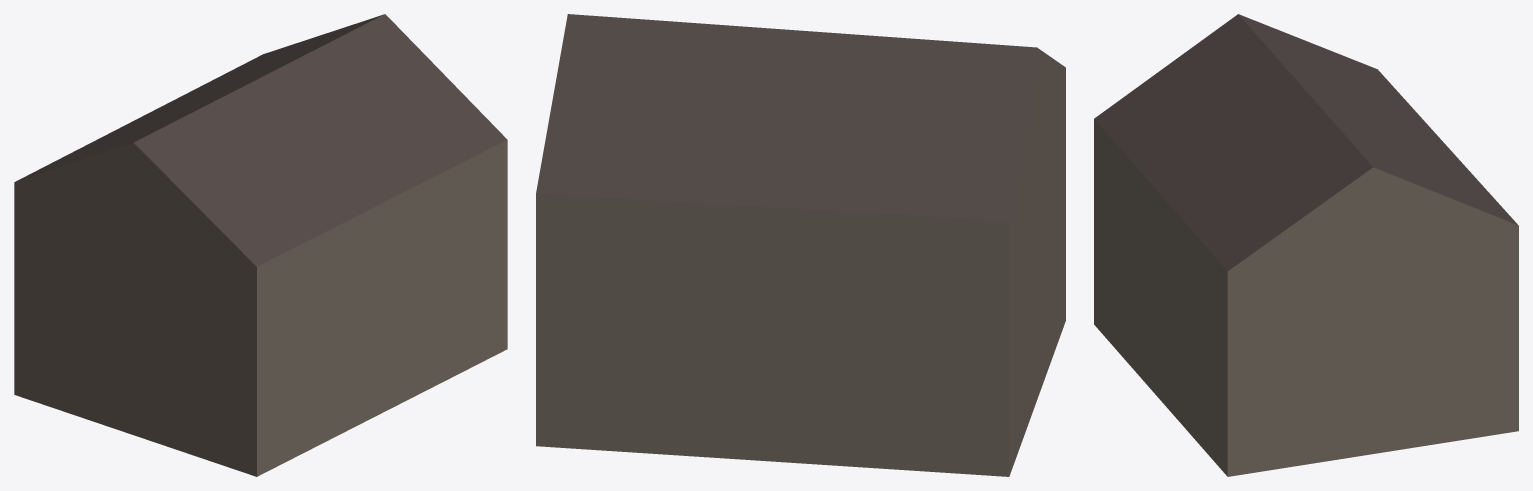
The picture shows the model from 3 angles, left to right: view 1: azimuth 30°, elevation 25°; view 2: azimuth 150°, elevation 25°; view 3: azimuth 270°, elevation 25°; orthographic projection. The views are drawn at different scales.
Parts seen in each view (by area): view 1: HP-w776800986; view 2: HP-w776800986; view 3: HP-w776800986.
Boxes of the visible parts, x1,y1,x2,y2 form: HP-w776800986: (14,14,507,476); HP-w776800986: (536,14,1065,476); HP-w776800986: (1094,14,1518,476).
Bounding box in the file's own units: 12.47 × 8.37 × 11.24.
